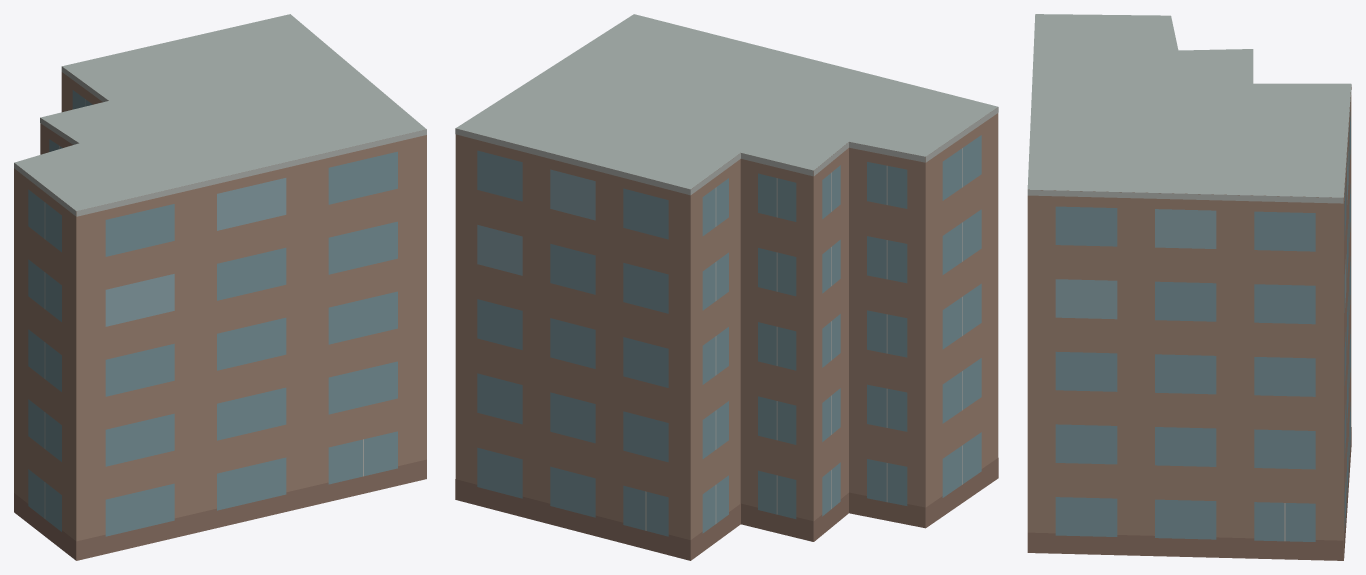
The model's file is survey-upis-32625906.glb.
3 views of the same model, side by side, from view 1: azimuth 30°, elevation 25°; view 2: azimuth 150°, elevation 25°; view 3: azimuth 270°, elevation 25° (orthographic). The views are drawn at different scales.
Parts seen in each view (by area): view 1: survey-upis-32625906.tmp; view 2: survey-upis-32625906.tmp; view 3: survey-upis-32625906.tmp.
Part boxes in pixels (x1=…): survey-upis-32625906.tmp: x1=14, y1=14, x2=426, y2=560; survey-upis-32625906.tmp: x1=455, y1=14, x2=998, y2=560; survey-upis-32625906.tmp: x1=1027, y1=14, x2=1351, y2=560.
Size of the model in its own units: 16.56 by 15.25 by 12.33.
